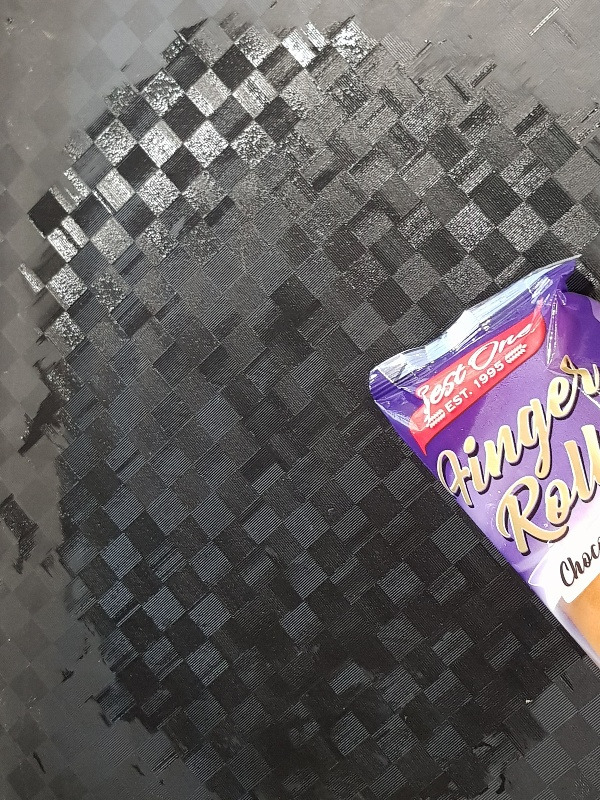Tinges Roll Chocolate: (367, 251, 600, 669)
